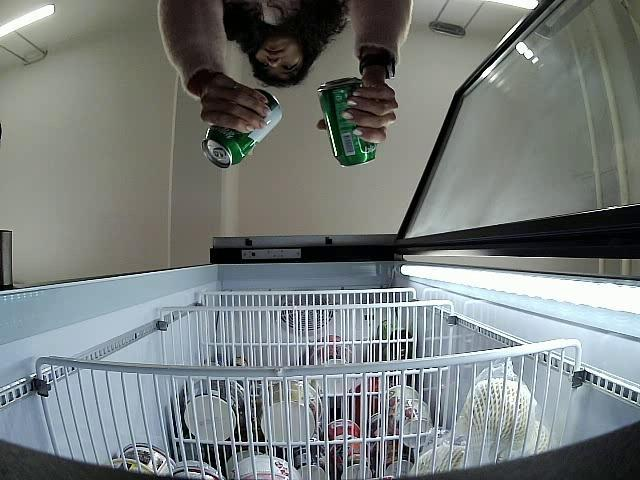12_chilsungCider: (202, 88, 284, 170), (317, 75, 379, 170)
